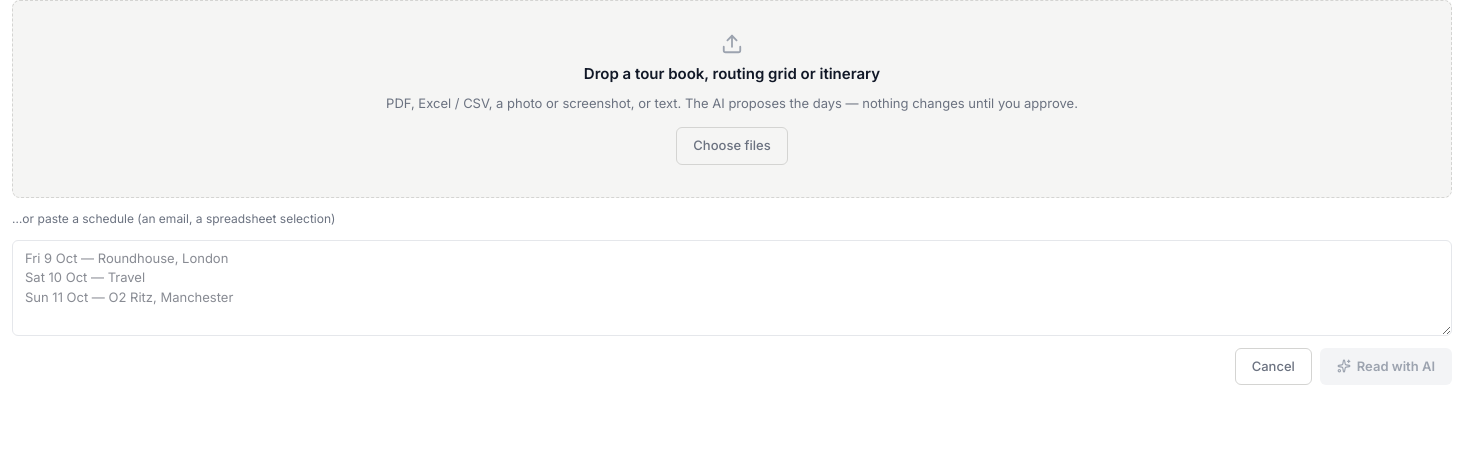
Test: <ScheduleImportFlow> › a Word file never gets sent; errors come back readable
Replace the text in the text box labelled "…or paste a schedule (an email, a spreadsheet selection)" with "x" at point(732, 288), box [12, 240, 1452, 336]
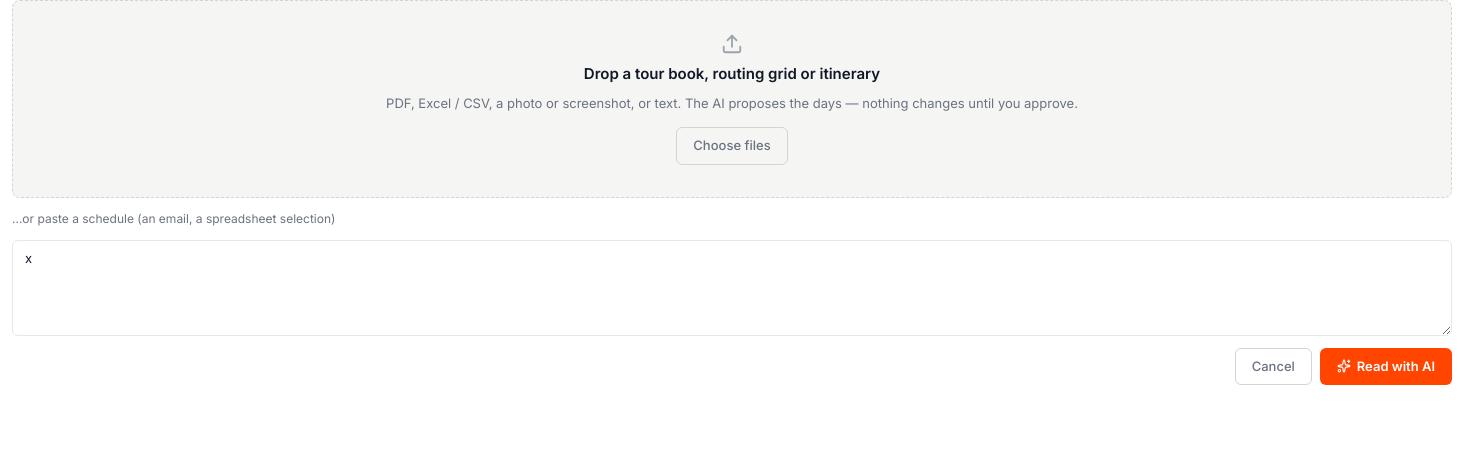
Click the button "Read with AI" at point(1386, 366), box [1320, 348, 1452, 385]
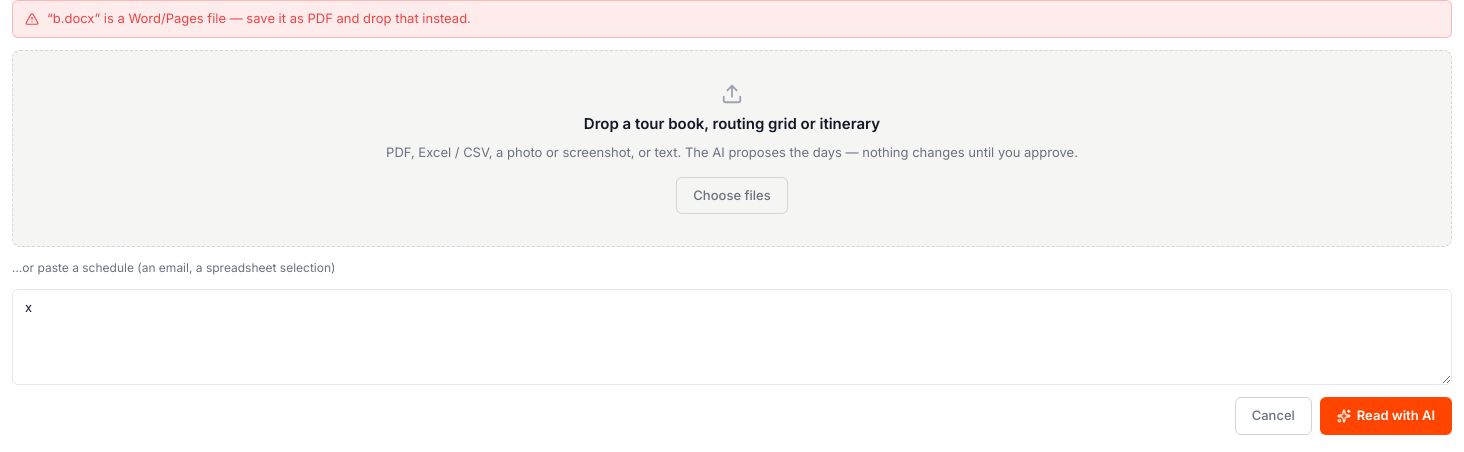
Check: the text "“b.docx” is a Word/Pages file — save it as PDF and drop that instead." is shown, box [12, 0, 1452, 38]
